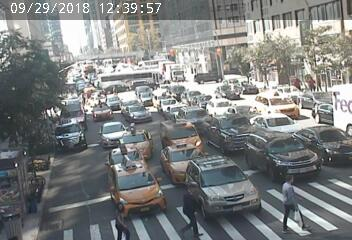car: (179, 156, 264, 210), (244, 132, 315, 180), (107, 167, 168, 208), (301, 120, 352, 161), (208, 113, 253, 146), (160, 120, 205, 149), (252, 91, 299, 116), (159, 145, 201, 172), (251, 111, 296, 133), (59, 99, 94, 125), (117, 127, 153, 151), (105, 148, 146, 169), (54, 124, 86, 150), (181, 104, 215, 126), (92, 105, 117, 127), (206, 96, 233, 115), (99, 120, 126, 138), (122, 99, 144, 120), (135, 82, 154, 100), (183, 88, 204, 104), (159, 97, 176, 113), (106, 90, 121, 105), (162, 98, 180, 110), (168, 82, 185, 94)
